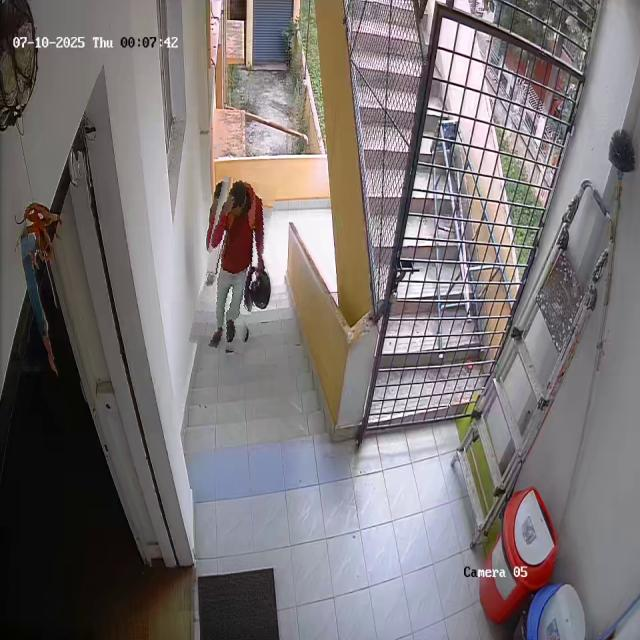person: (196, 178, 269, 352)
